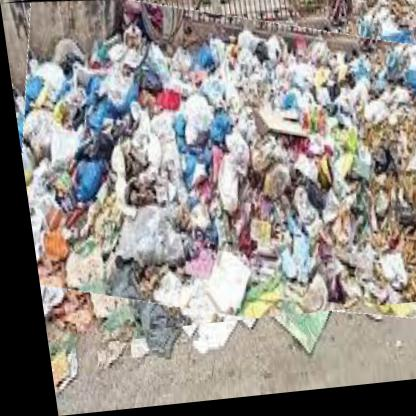Garbage: (1, 1, 416, 343)
